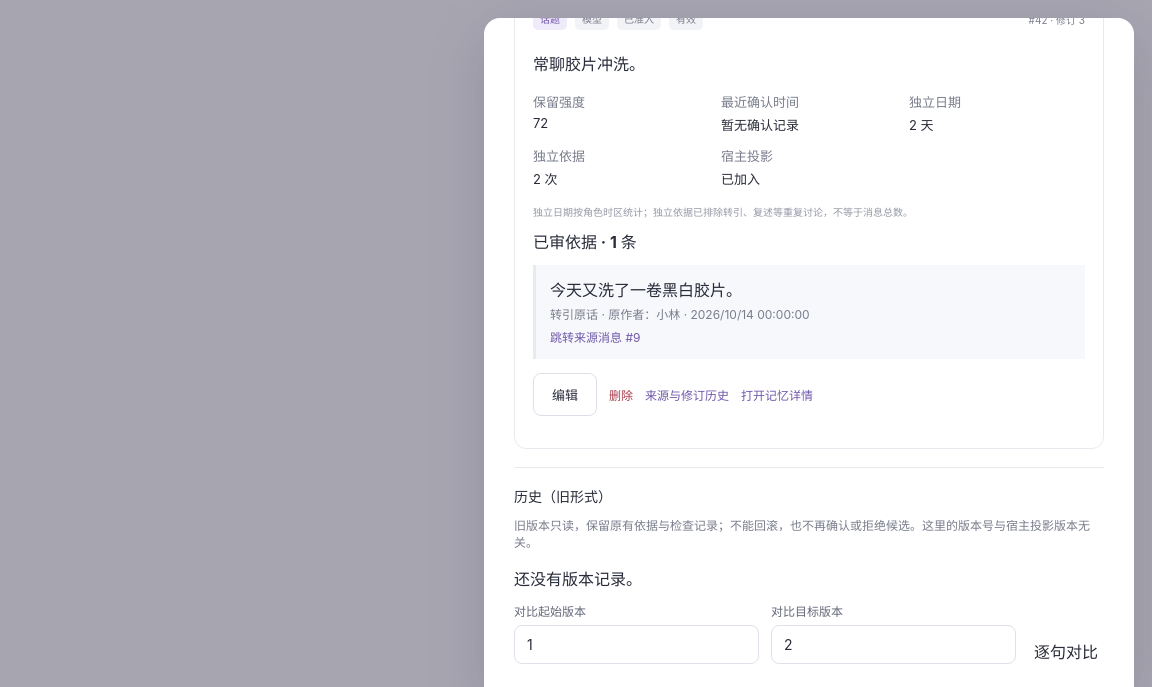
Scenario: 编辑允许短正文，使用记忆 revision 而非投影 version
(page scrolled)
expect the text "常聊胶片冲洗。" is shown: met, box [533, 54, 645, 74]
Click the button "编辑".
click(565, 395)  # box [533, 373, 597, 416]
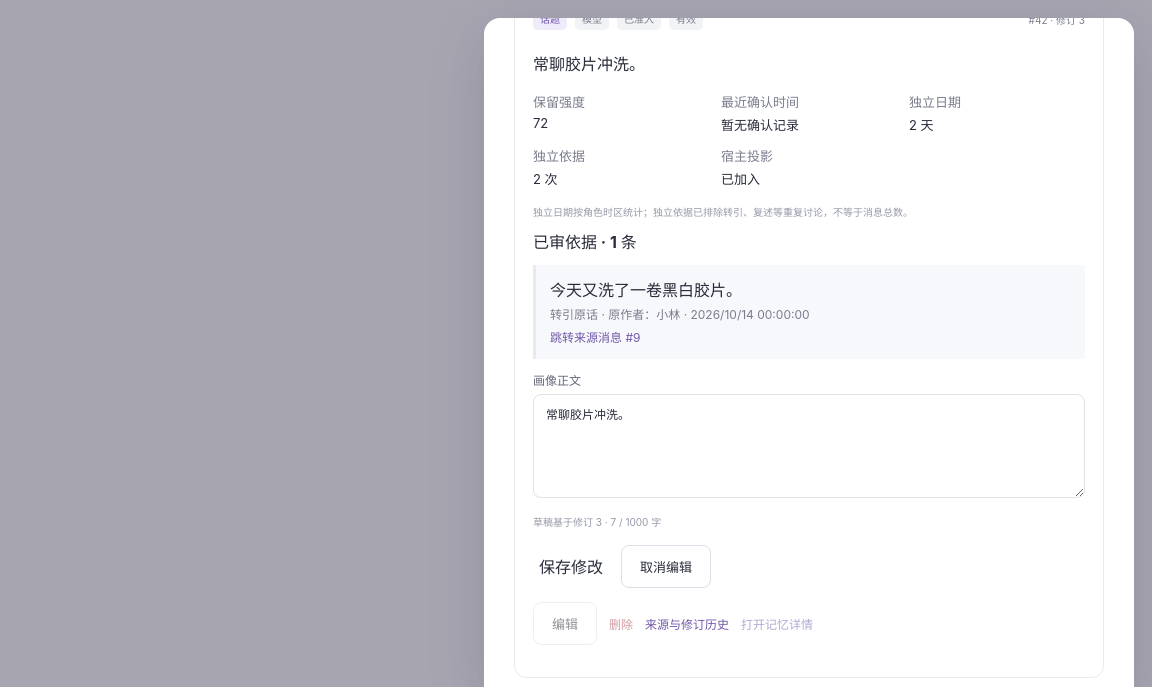
Replace the text in the text box labelled "画像正文" with "新正文。" at (809, 446), box [533, 394, 1085, 498]
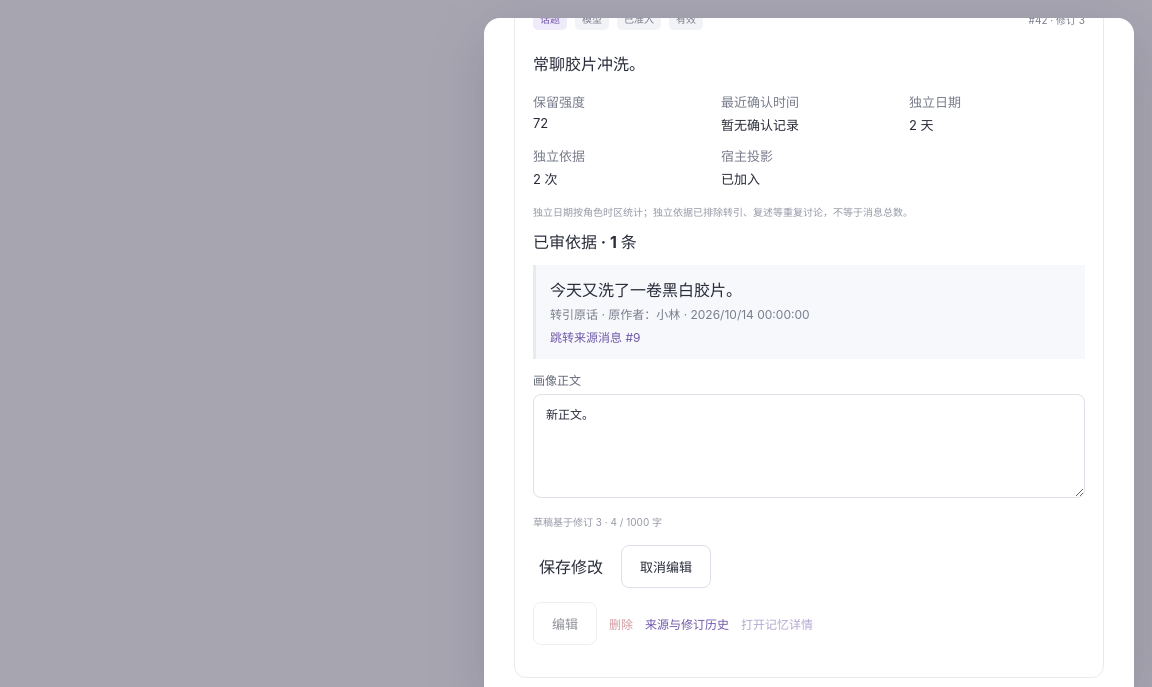
Click the button "保存修改".
click(571, 566)  # box [533, 553, 609, 579]
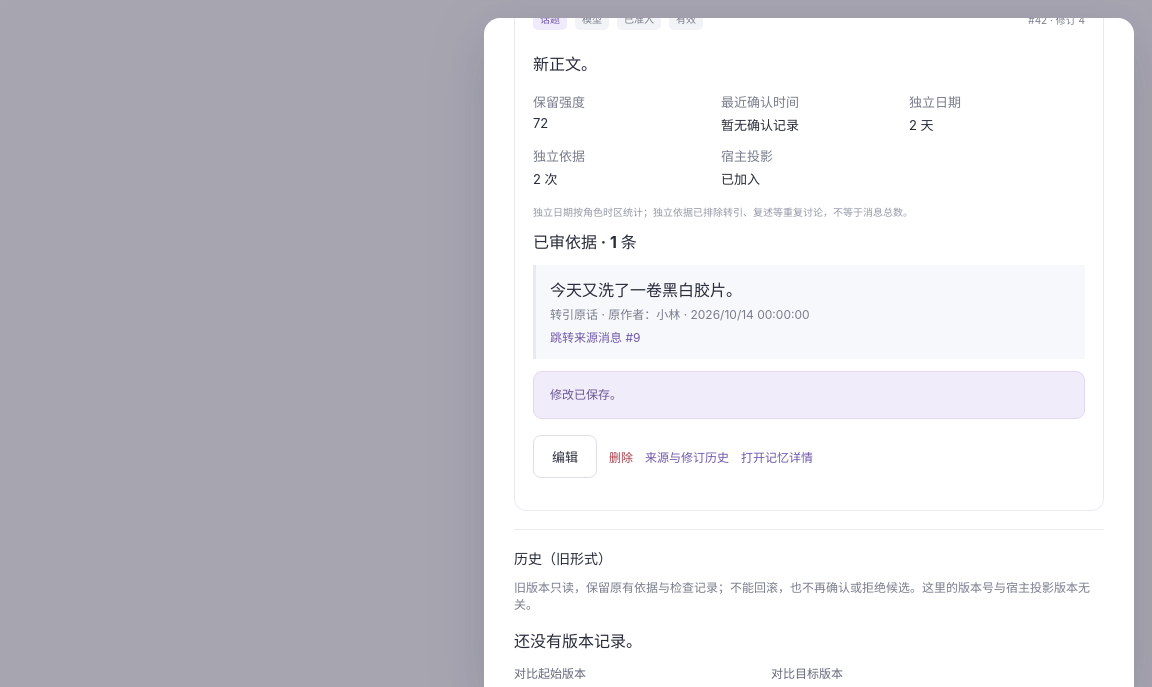
expect the text "修改已保存。" is shown: met, box [533, 371, 1085, 419]
